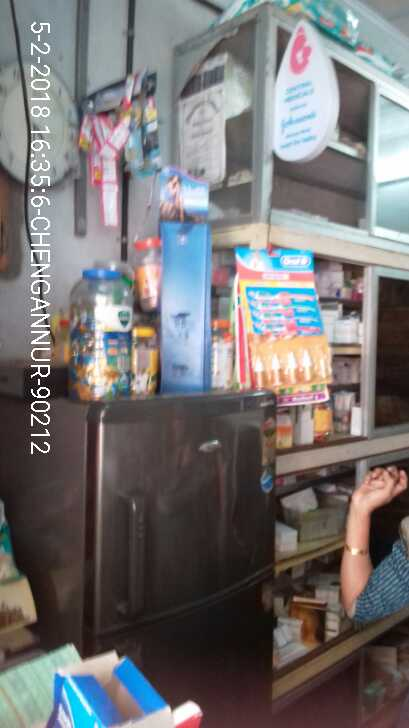reject: (143, 236, 208, 318)
